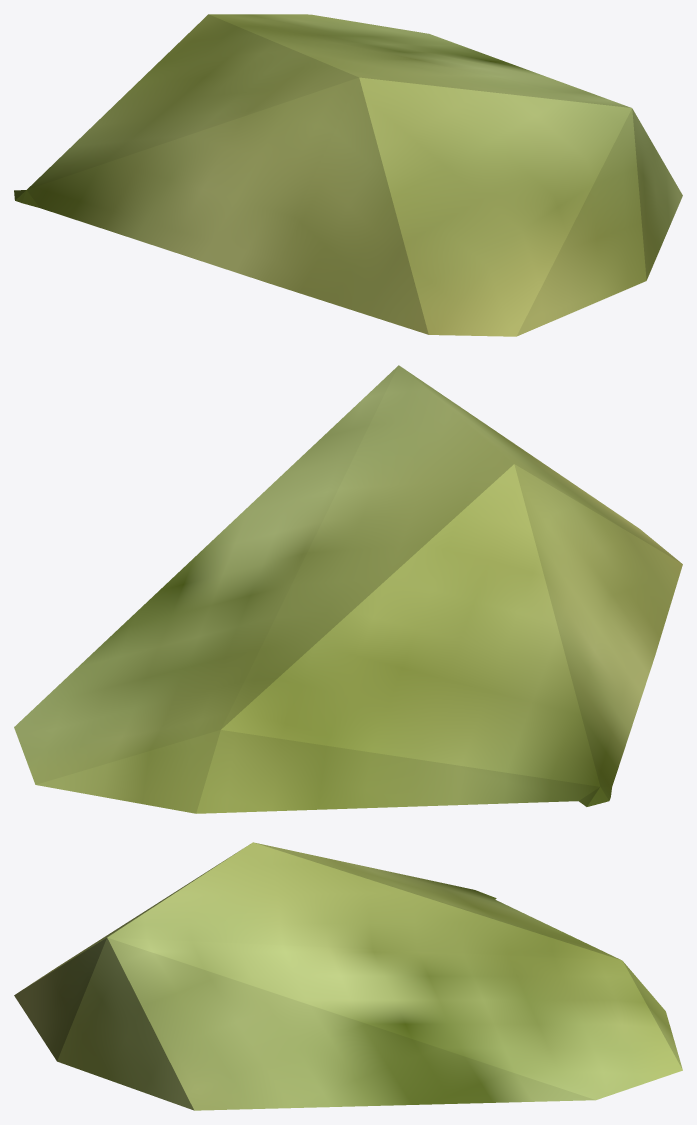
The picture shows the model from 3 angles, top to bottom: view 1: azimuth 30°, elevation 25°; view 2: azimuth 150°, elevation 25°; view 3: azimuth 270°, elevation 25°; orthographic projection. The views are drawn at different scales.
Size of the model in its own units: 0.142 by 0.0441 by 0.1854.
1 material, 1 textured.
